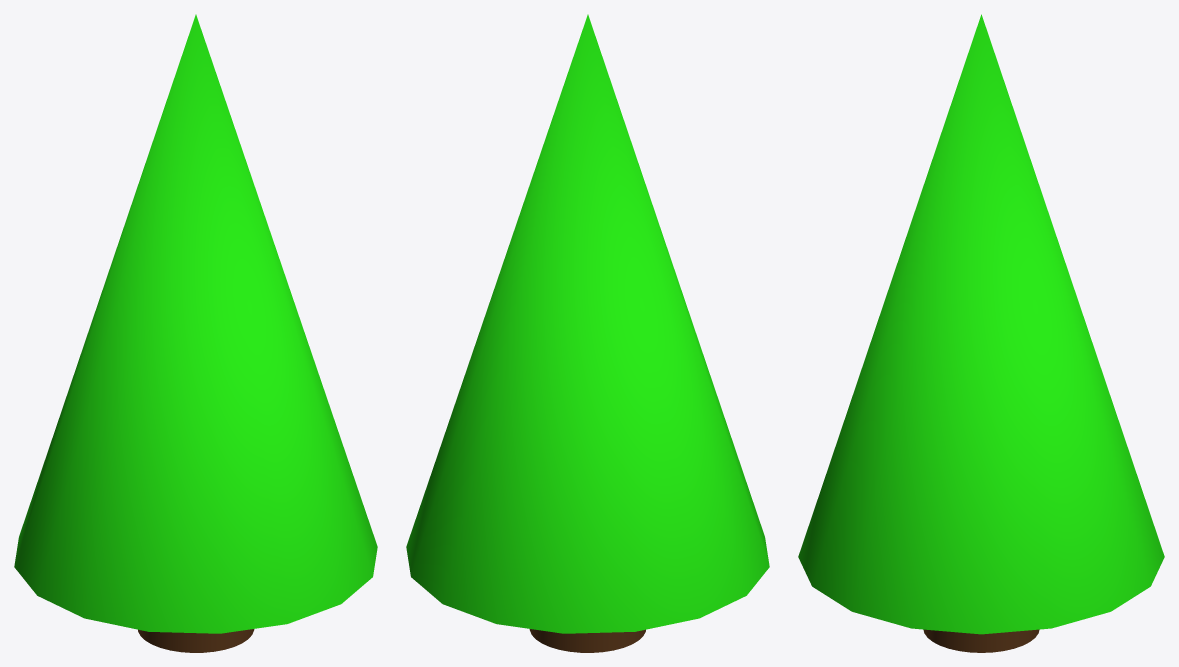
File: tree.fbx
3 renders of one model, left to right at view 1: azimuth 30°, elevation 25°; view 2: azimuth 150°, elevation 25°; view 3: azimuth 270°, elevation 25°, orthographic.
Visible parts, largest first — view 1: Cone, Cylinder; view 2: Cone, Cylinder; view 3: Cone, Cylinder.
Part boxes in pixels (<box>): Cone: <box>14,14,377,633</box>; Cylinder: <box>138,629,254,652</box>; Cone: <box>406,14,769,633</box>; Cylinder: <box>529,629,645,652</box>; Cone: <box>798,14,1164,634</box>; Cylinder: <box>923,629,1039,652</box>.
Bounding box in the file's own units: 200 × 200 × 370.
